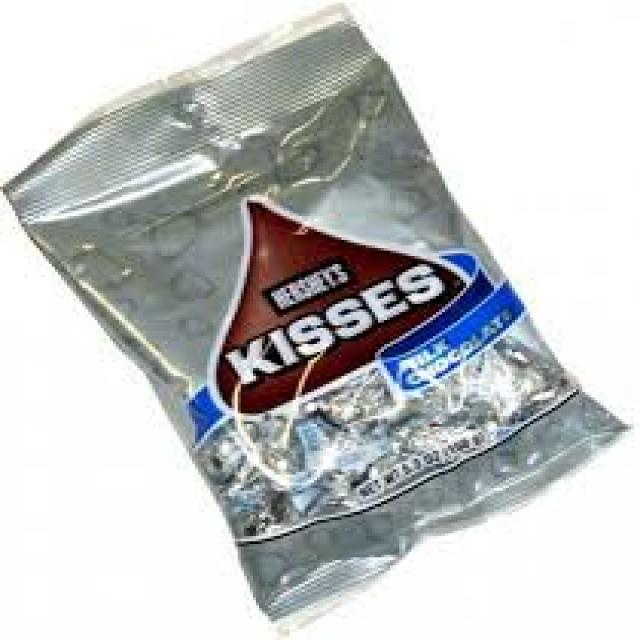kisses: (319, 382, 390, 425), (408, 422, 475, 466), (205, 431, 248, 486)
